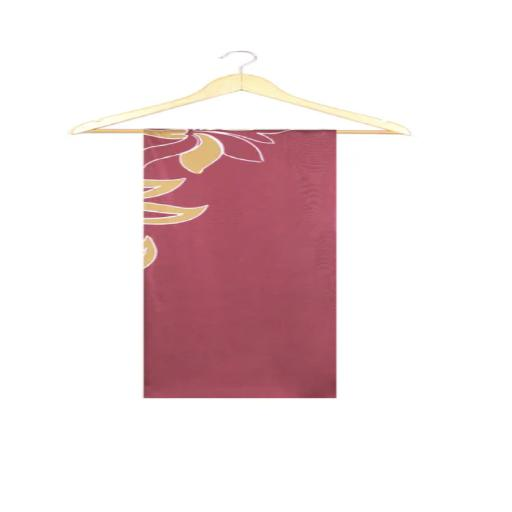Dupatta: (131, 124, 350, 406)
